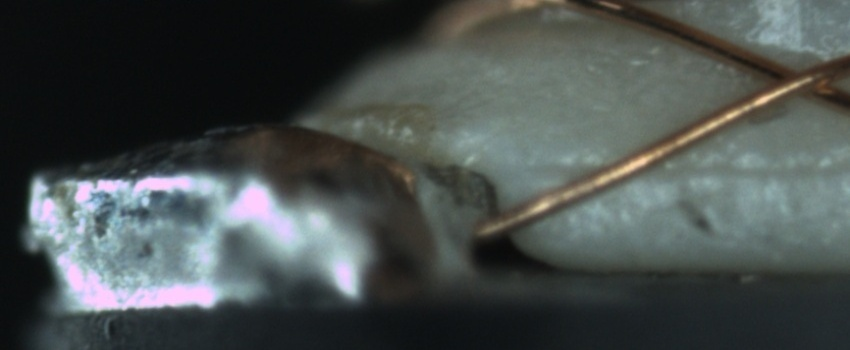CL: (738, 45, 843, 110)
DL: (537, 140, 849, 202)
